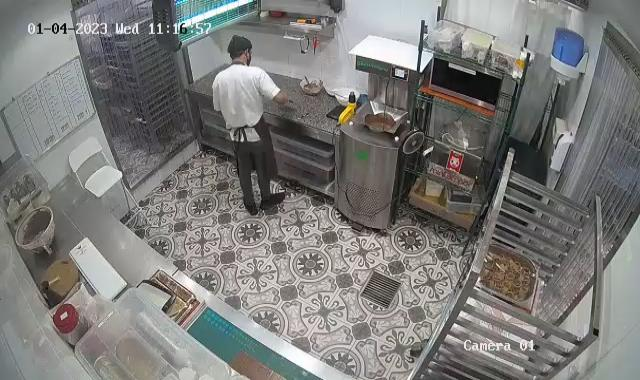no_hairnet: (225, 33, 252, 62)
